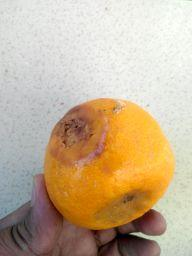Unripe: (43, 99, 171, 227)
